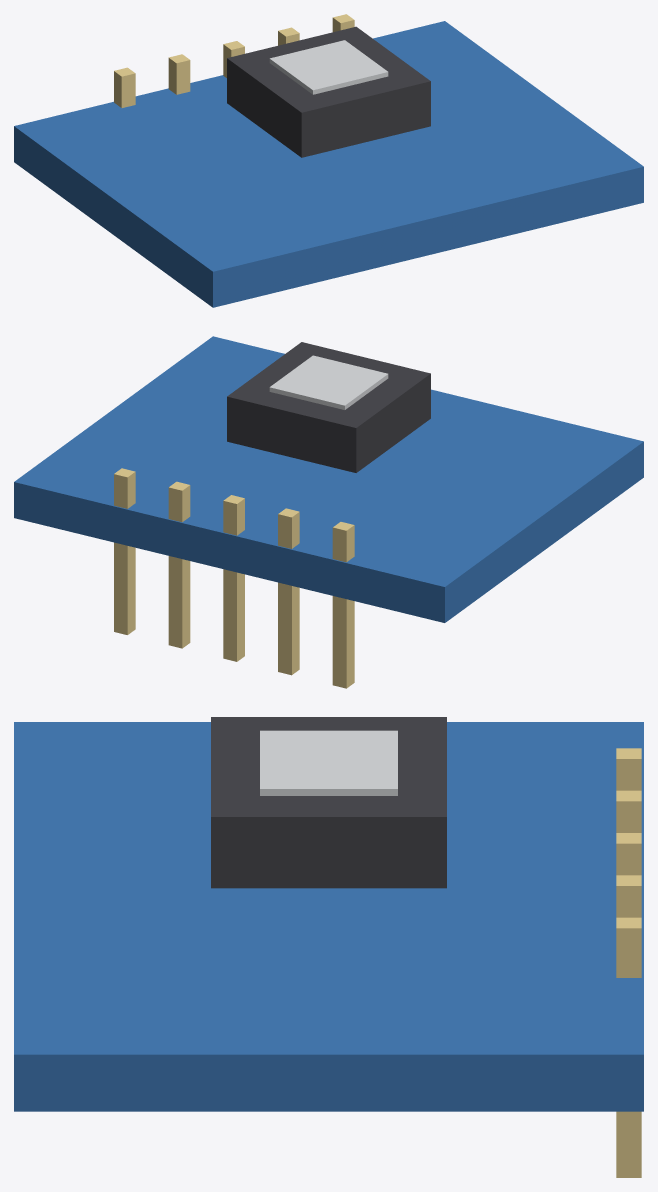
Rendered from mpu6050.glb.
3 renders of one model, top to bottom at view 1: azimuth 30°, elevation 25°; view 2: azimuth 150°, elevation 25°; view 3: azimuth 270°, elevation 25°, orthographic. The views are drawn at different scales.
Visible parts, largest first — view 1: pcb, imu-package, header; view 2: pcb, imu-package, header; view 3: pcb, imu-package, header.
Boxes of the visible parts, x1=… form: pcb: x1=14, y1=21, x2=643, y2=307; imu-package: x1=227, y1=26, x2=430, y2=157; header: x1=114, y1=14, x2=354, y2=107; pcb: x1=14, y1=336, x2=643, y2=622; imu-package: x1=227, y1=342, x2=430, y2=472; header: x1=114, y1=468, x2=354, y2=688; pcb: x1=14, y1=722, x2=643, y2=1111; imu-package: x1=211, y1=717, x2=446, y2=888; header: x1=616, y1=748, x2=641, y2=1177.
Bounding box in the file's own units: 0.02 × 0.0092 × 0.016.
